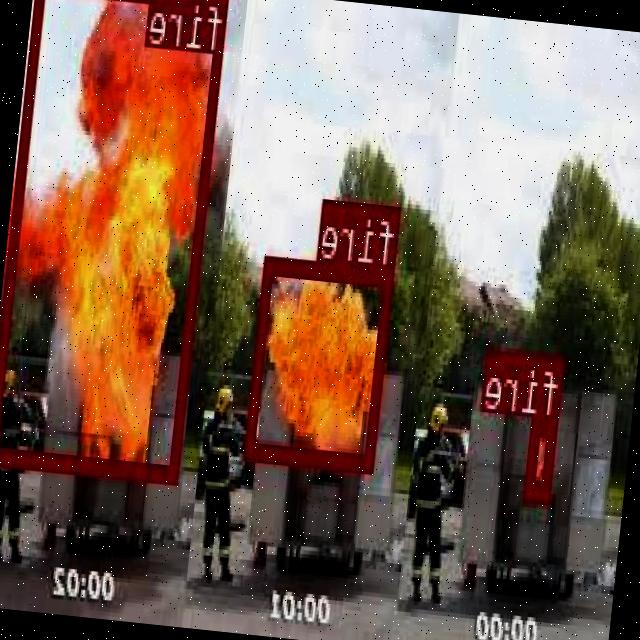fire: (0, 0, 230, 479), (246, 256, 395, 470), (526, 416, 559, 498)
